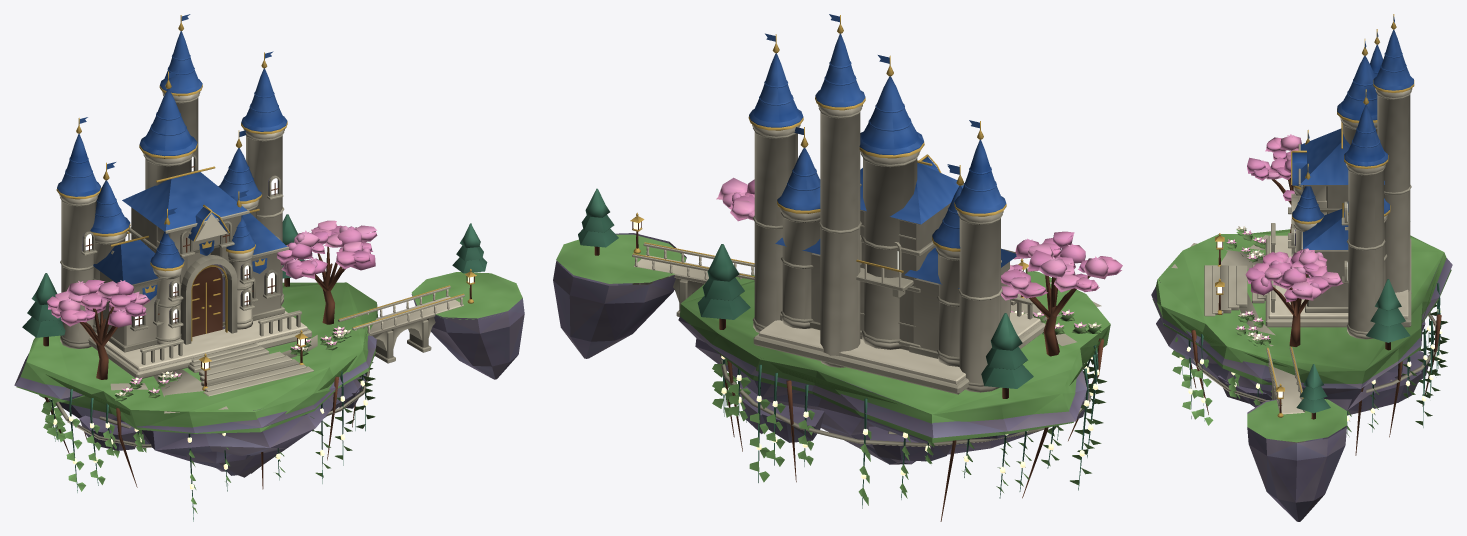
File: royal-island-citadel-background-v1-balanced.glb
3 views of the same model, side by side, from view 1: azimuth 30°, elevation 25°; view 2: azimuth 150°, elevation 25°; view 3: azimuth 270°, elevation 25° (orthographic). The views are drawn at different scales.
Parts seen in each view (by area): view 1: royal-island-citadel-background-v1; view 2: royal-island-citadel-background-v1; view 3: royal-island-citadel-background-v1.
Part boxes in pixels (x1=…): royal-island-citadel-background-v1: x1=14, y1=14, x2=524, y2=521; royal-island-citadel-background-v1: x1=553, y1=14, x2=1122, y2=521; royal-island-citadel-background-v1: x1=1151, y1=14, x2=1452, y2=521.
Size of the model in its own units: 19.17 by 16.3 by 10.92.
Materials: 10 (10 with a texture image).
